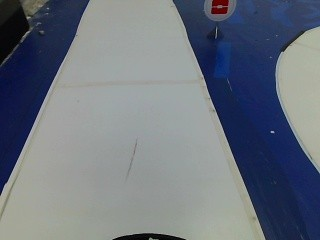company: (202, 0, 236, 22)
